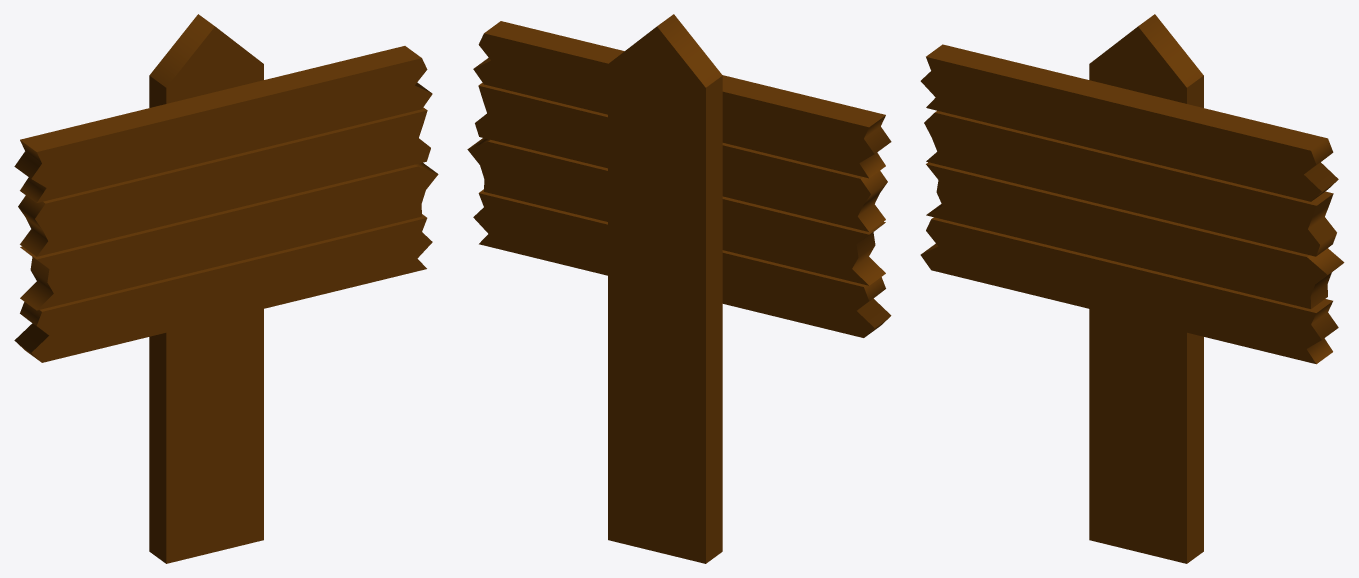
The model's file is sign.fbx.
3 views of the same model, side by side, from view 1: azimuth 30°, elevation 25°; view 2: azimuth 150°, elevation 25°; view 3: azimuth 330°, elevation 25° (orthographic).
Visible parts, largest first — view 1: polySurface1; view 2: polySurface1; view 3: polySurface1.
Part boxes in pixels (left/top/right/bottom): polySurface1: left=14, top=14, right=438, bottom=563; polySurface1: left=467, top=14, right=891, bottom=563; polySurface1: left=920, top=14, right=1344, bottom=563.
Size of the model in its own units: 4.17 by 5.14 by 0.6.
